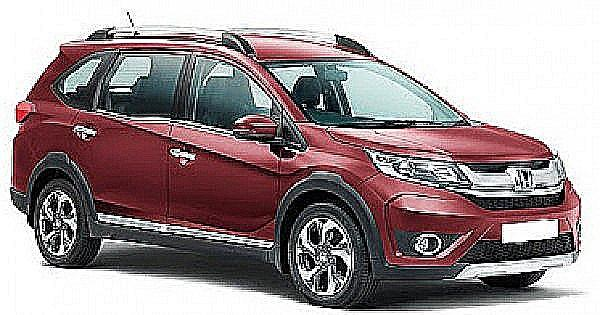Car hood: (322, 119, 558, 166)
Driver-s door - -F-R-: (168, 39, 278, 245)
Fender - -F-R-: (270, 102, 382, 264)
Fender - -R-R-: (20, 102, 81, 188)
Front bumper: (353, 185, 587, 288)
Headlight - -L-: (542, 151, 580, 198)
Headlight - -R-: (358, 143, 477, 198)
Passenger-s door - -R-R-: (63, 38, 169, 228)
Rear bumper: (8, 135, 41, 230)
Rear light - -R-: (12, 98, 42, 127)
Side bumper - -L-: (83, 208, 287, 276)
Side mirror - -R-: (228, 108, 282, 150)
